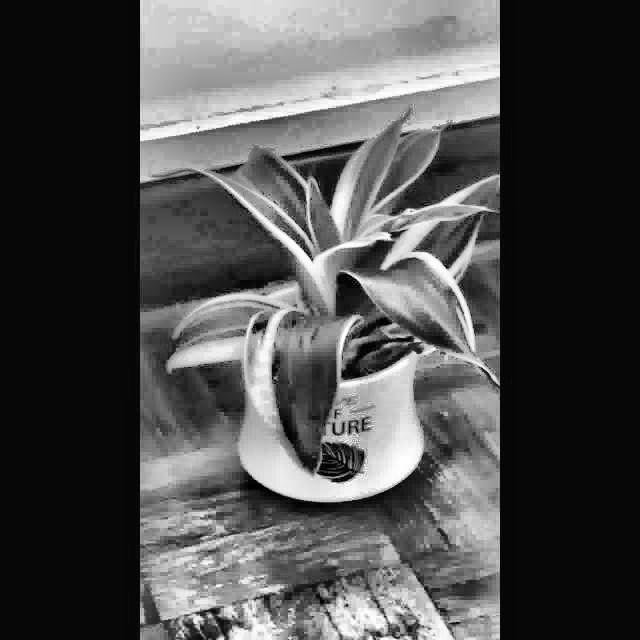plants: (148, 96, 500, 510)
